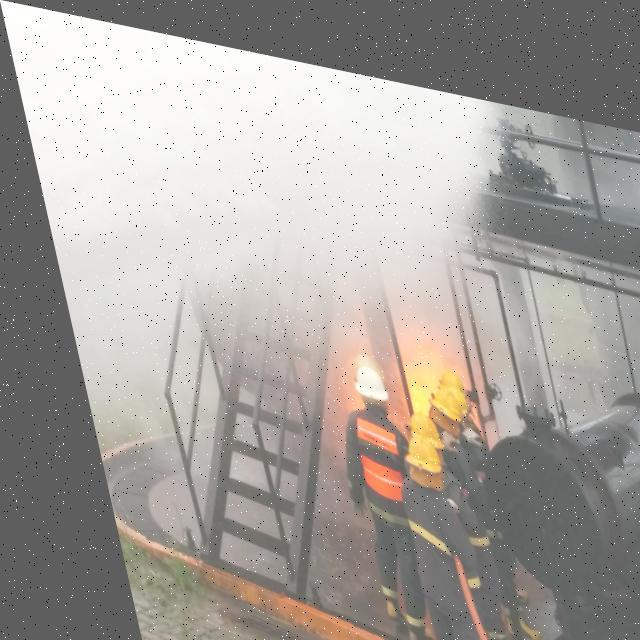Fire: (316, 306, 475, 442)
